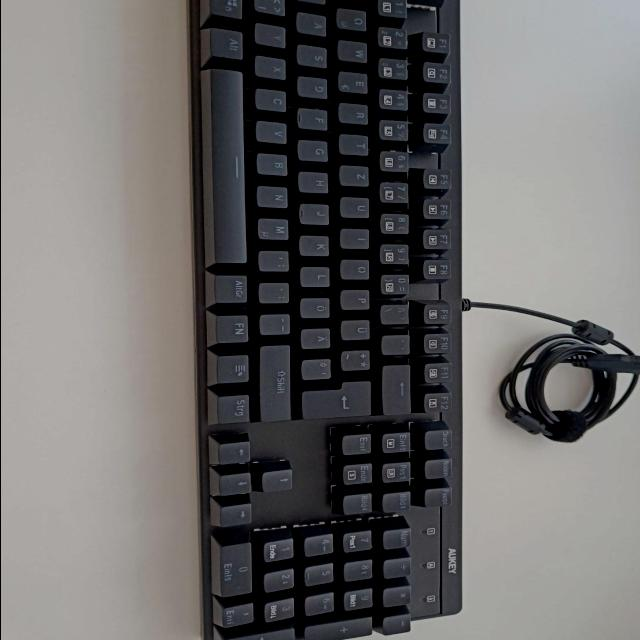0: (380, 272, 412, 296)
1: (377, 0, 410, 17)
2: (375, 27, 407, 50)
3: (378, 57, 408, 80)
4: (379, 88, 410, 111)
5: (379, 118, 410, 141)
6: (380, 149, 412, 173)
7: (378, 182, 410, 204)
8: (379, 212, 411, 234)
9: (379, 243, 411, 265)
a: (297, 11, 329, 35)
accent: (382, 333, 412, 355)
ae: (301, 327, 333, 349)
alt-left: (210, 26, 246, 60)
altgr-right: (215, 272, 249, 304)
b: (258, 152, 290, 176)
c: (256, 88, 289, 112)
caret: (378, 0, 408, 10)
comma: (259, 250, 291, 272)
d: (298, 76, 330, 98)
del: (383, 363, 413, 414)
e: (338, 71, 370, 94)
enter: (302, 380, 374, 418)
f: (298, 108, 330, 130)
g: (298, 139, 330, 161)
h: (299, 170, 330, 193)
hash: (302, 357, 334, 379)
i: (341, 227, 371, 249)
j: (301, 203, 331, 225)
k: (300, 235, 332, 257)
keyboard: (179, 0, 469, 640)
l: (301, 265, 332, 287)
less: (255, 0, 287, 15)
m: (258, 216, 291, 240)
minus: (260, 312, 292, 336)
n: (257, 185, 290, 209)
o: (341, 258, 371, 280)
oe: (300, 296, 332, 318)
p: (341, 288, 372, 310)
plus: (341, 349, 372, 371)
point: (259, 281, 291, 303)
q: (337, 7, 369, 31)
r: (339, 102, 371, 124)
s: (297, 44, 329, 68)
shift-left: (253, 0, 287, 13)
shift-lock: (295, 0, 328, 22)
shift-right: (259, 344, 292, 422)
space: (208, 67, 248, 265)
ss: (380, 303, 410, 325)
strg-left: (212, 0, 244, 10)
strg-right: (217, 393, 251, 425)
t: (340, 133, 370, 155)
tab: (336, 1, 368, 19)
u: (341, 196, 372, 218)
ue: (341, 318, 372, 340)
v: (257, 120, 289, 144)
w: (338, 39, 369, 62)
x: (255, 55, 288, 79)
y: (255, 22, 287, 47)
z: (340, 164, 371, 186)
